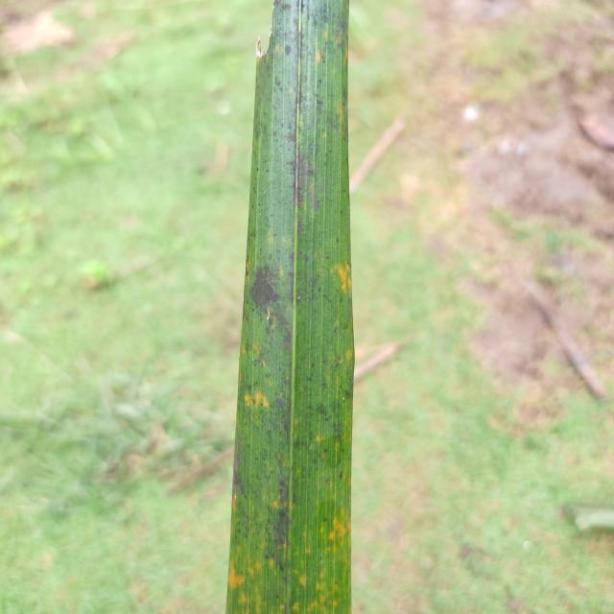Kalium: (227, 0, 350, 614)
